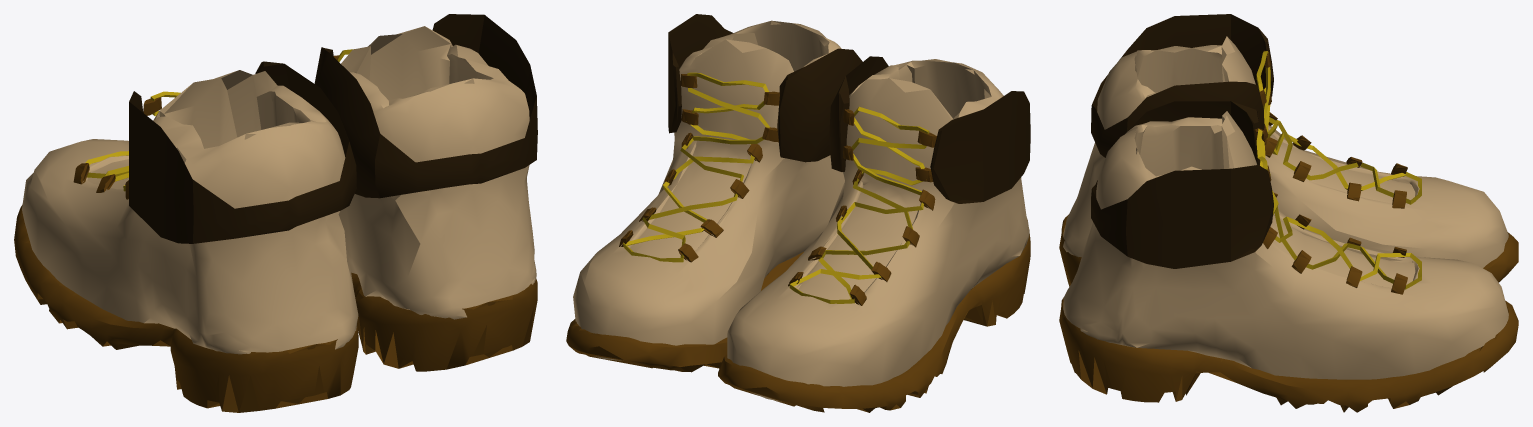
The model's file is Sepatu Safety.fbx.
3 renders of one model, left to right at view 1: azimuth 30°, elevation 25°; view 2: azimuth 150°, elevation 25°; view 3: azimuth 270°, elevation 25°, orthographic. The views are drawn at different scales.
Parts seen in each view (by area): view 1: Plane.002, Plane.001; view 2: Plane.002, Plane.001; view 3: Plane.001, Plane.002.
Part boxes in pixels (x1=…): Plane.002: x1=14, y1=61, x2=358, y2=412; Plane.001: x1=314, y1=14, x2=537, y2=371; Plane.002: x1=718, y1=56, x2=1030, y2=412; Plane.001: x1=566, y1=14, x2=862, y2=372; Plane.001: x1=1059, y1=101, x2=1518, y2=412; Plane.002: x1=1059, y1=14, x2=1518, y2=286.
Bounding box in the file's own units: 34.46 × 25.62 × 42.44.
